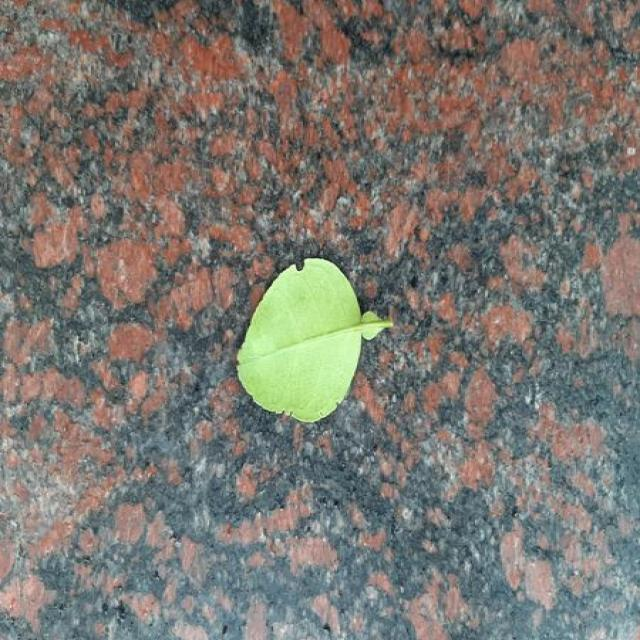lemon: (237, 259, 392, 422)
